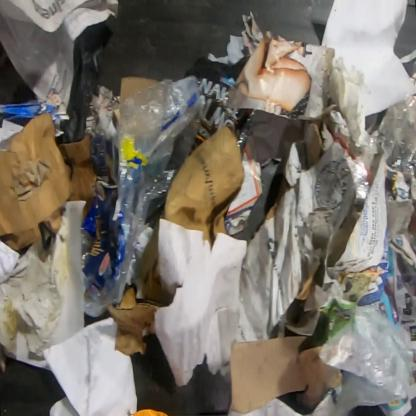cardboard: (0, 111, 73, 255), (163, 124, 245, 251), (105, 218, 174, 356), (227, 334, 343, 415), (82, 134, 130, 302), (58, 134, 106, 226), (223, 134, 264, 236), (0, 97, 63, 145), (303, 119, 323, 170), (120, 77, 160, 100)
soft_plastic: (84, 75, 205, 317), (318, 303, 415, 415), (184, 52, 255, 158), (367, 95, 415, 180), (344, 154, 370, 208), (80, 226, 92, 270)
